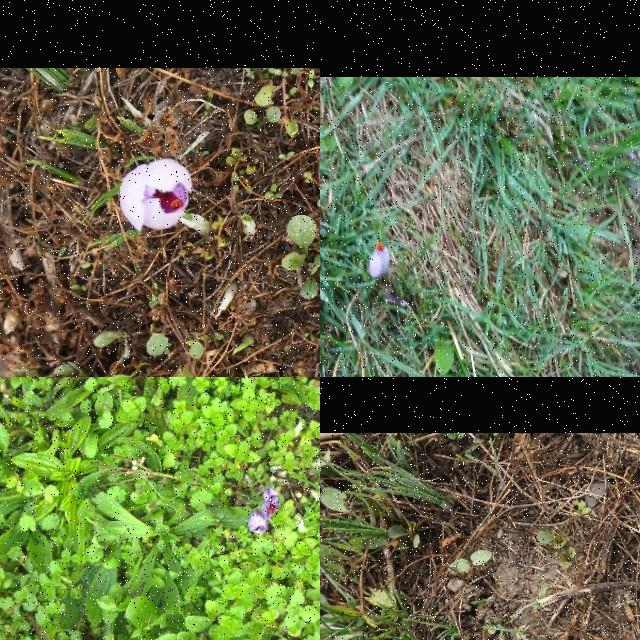flower: (120, 158, 194, 234), (370, 242, 390, 278), (265, 488, 279, 516), (250, 515, 268, 535)
